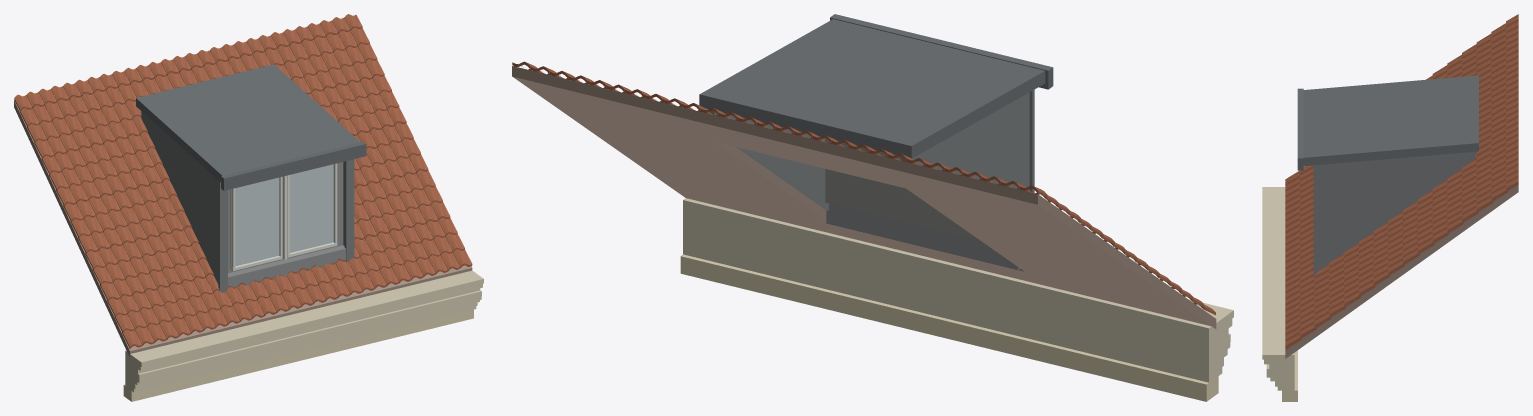
File: baoqing-lane9-two-light-tiled-dormer-far.glb
3 renders of one model, left to right at view 1: azimuth 30°, elevation 25°; view 2: azimuth 150°, elevation 25°; view 3: azimuth 270°, elevation 25°, orthographic. The views are drawn at different scales.
Parts seen in each view (by area): view 1: 宝庆路9弄住宅红瓦坡面的双扇老虎窗; view 2: 宝庆路9弄住宅红瓦坡面的双扇老虎窗; view 3: 宝庆路9弄住宅红瓦坡面的双扇老虎窗.
Part boxes in pixels (x1,y1,x2,y2): 宝庆路9弄住宅红瓦坡面的双扇老虎窗: [14, 14, 483, 401]; 宝庆路9弄住宅红瓦坡面的双扇老虎窗: [512, 14, 1233, 401]; 宝庆路9弄住宅红瓦坡面的双扇老虎窗: [1262, 14, 1518, 401].
Size of the model in its own units: 3 by 1.84 by 1.93.
Materials: 10 (1 with a texture image).
